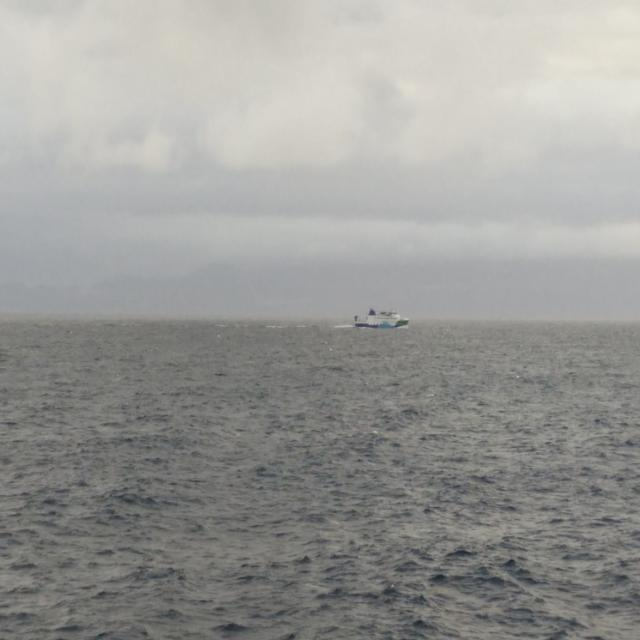houseboat: (350, 304, 409, 330)
